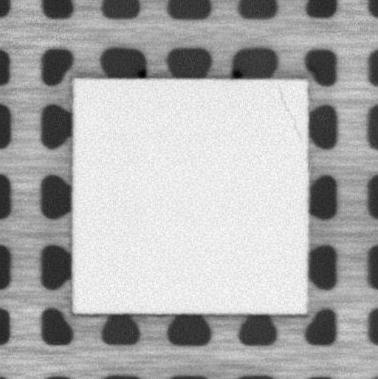DIE_CRACK: (276, 83, 304, 144)
